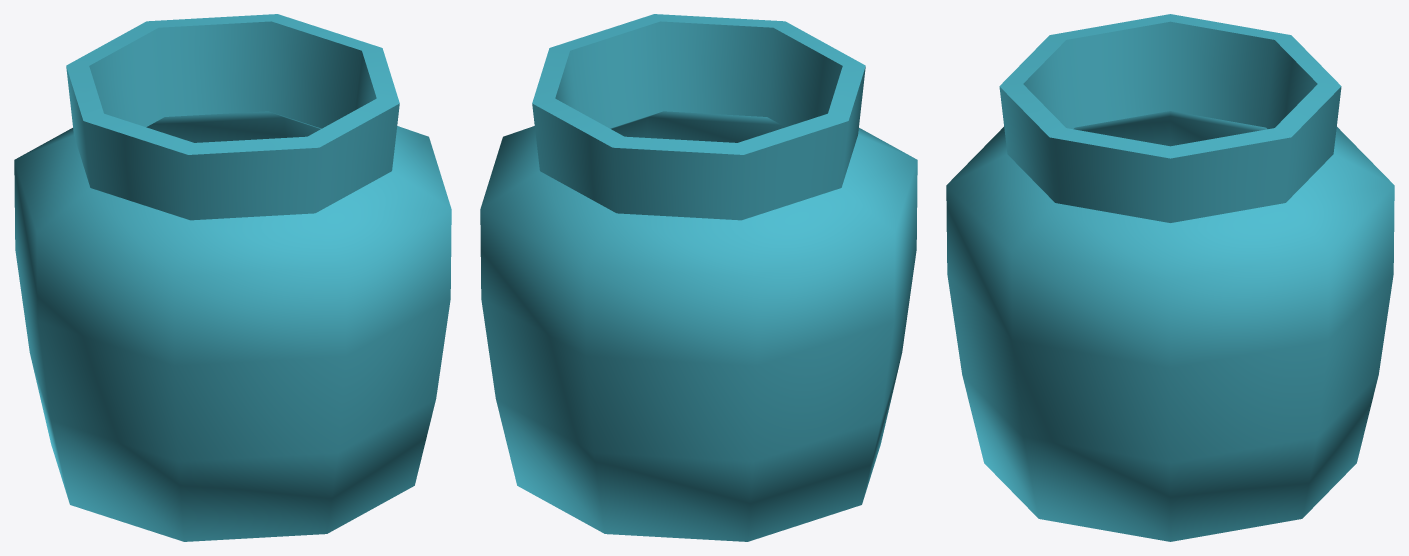
Rendered from SE_Jar_03.fbx.
The picture shows the model from 3 angles, left to right: view 1: azimuth 30°, elevation 25°; view 2: azimuth 150°, elevation 25°; view 3: azimuth 270°, elevation 25°; orthographic projection.
Parts seen in each view (by area): view 1: SE_Jar_03; view 2: SE_Jar_03; view 3: SE_Jar_03.
Boxes of the visible parts, box(x1,y1,x2,y2) form: SE_Jar_03: box(14, 14, 451, 541); SE_Jar_03: box(480, 14, 917, 541); SE_Jar_03: box(946, 14, 1394, 541).
Bounding box in the file's own units: 1.03 × 0.9659 × 1.03.
